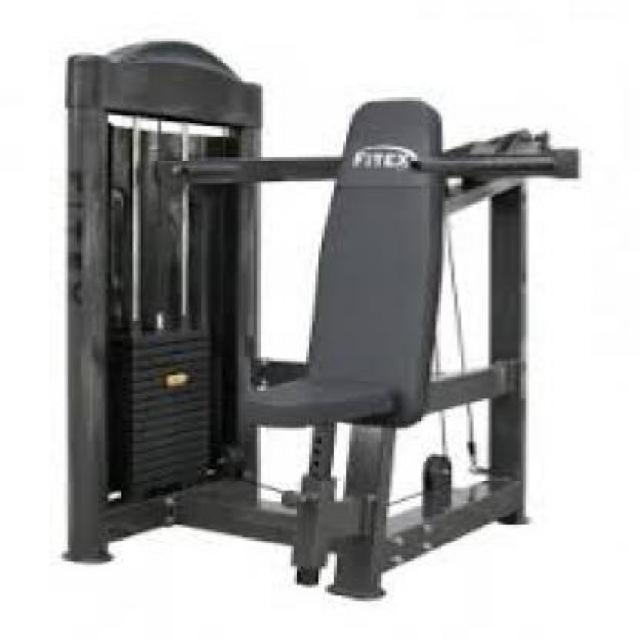shoulder press machine: (42, 31, 589, 609)
